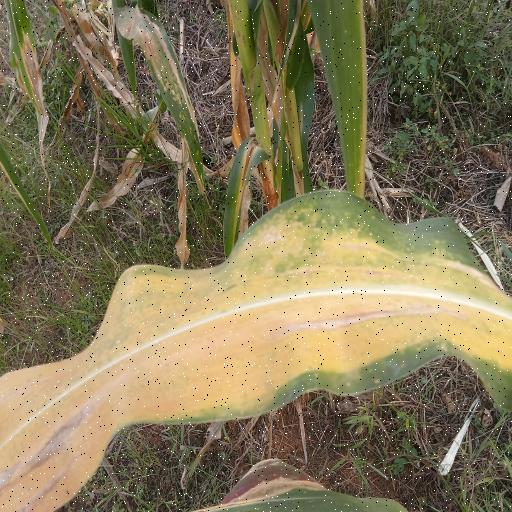Corn_Yellowing: (0, 187, 512, 512)
